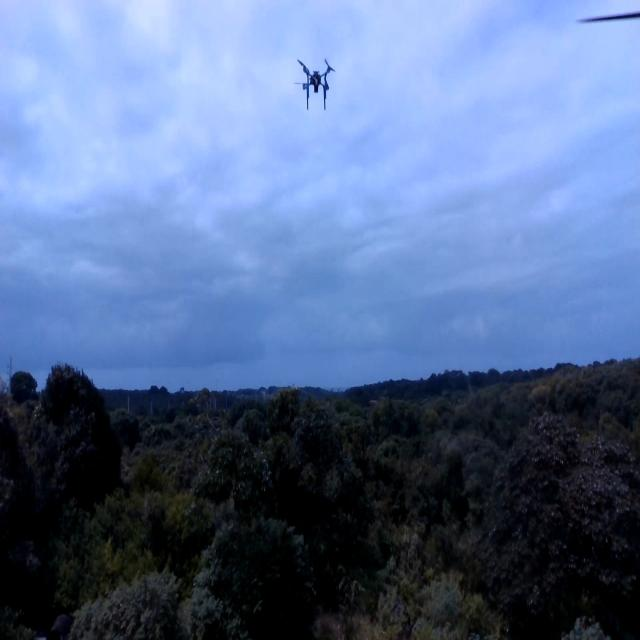-uav-: (288, 51, 341, 116)
